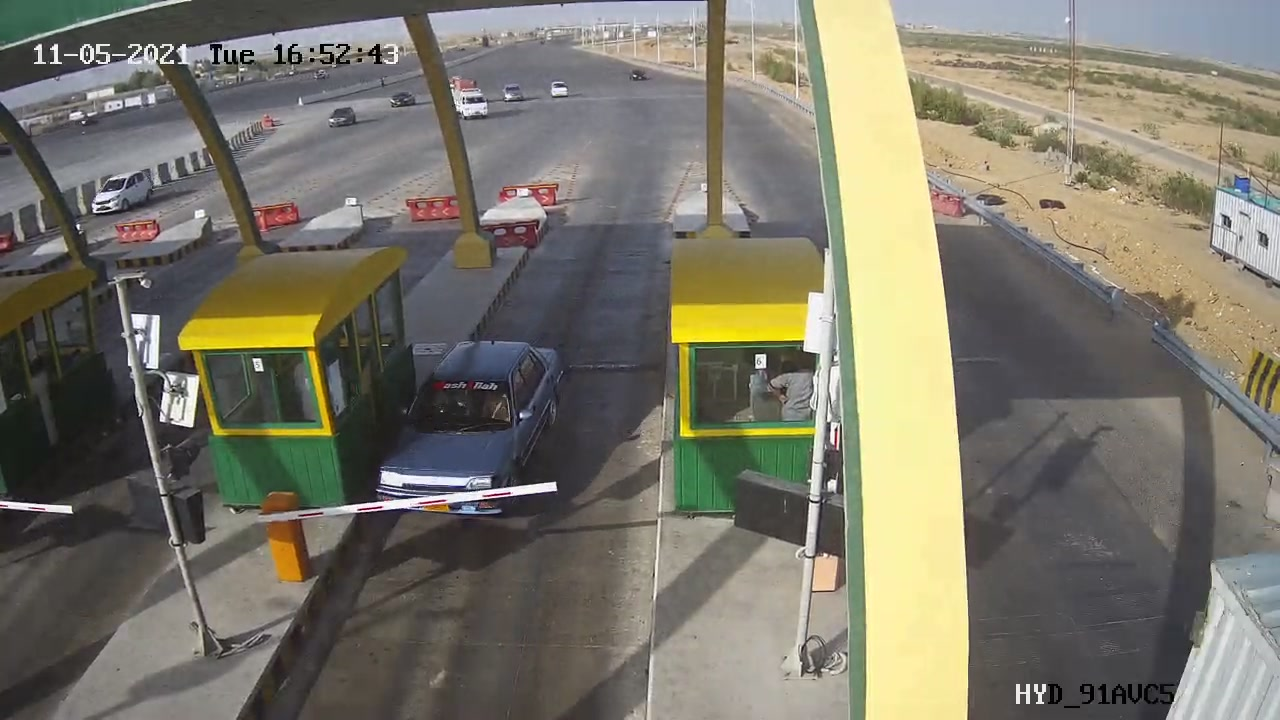F1: (361, 319, 579, 531)
